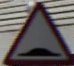Speed Breaker ahead: (8, 7, 67, 62)
